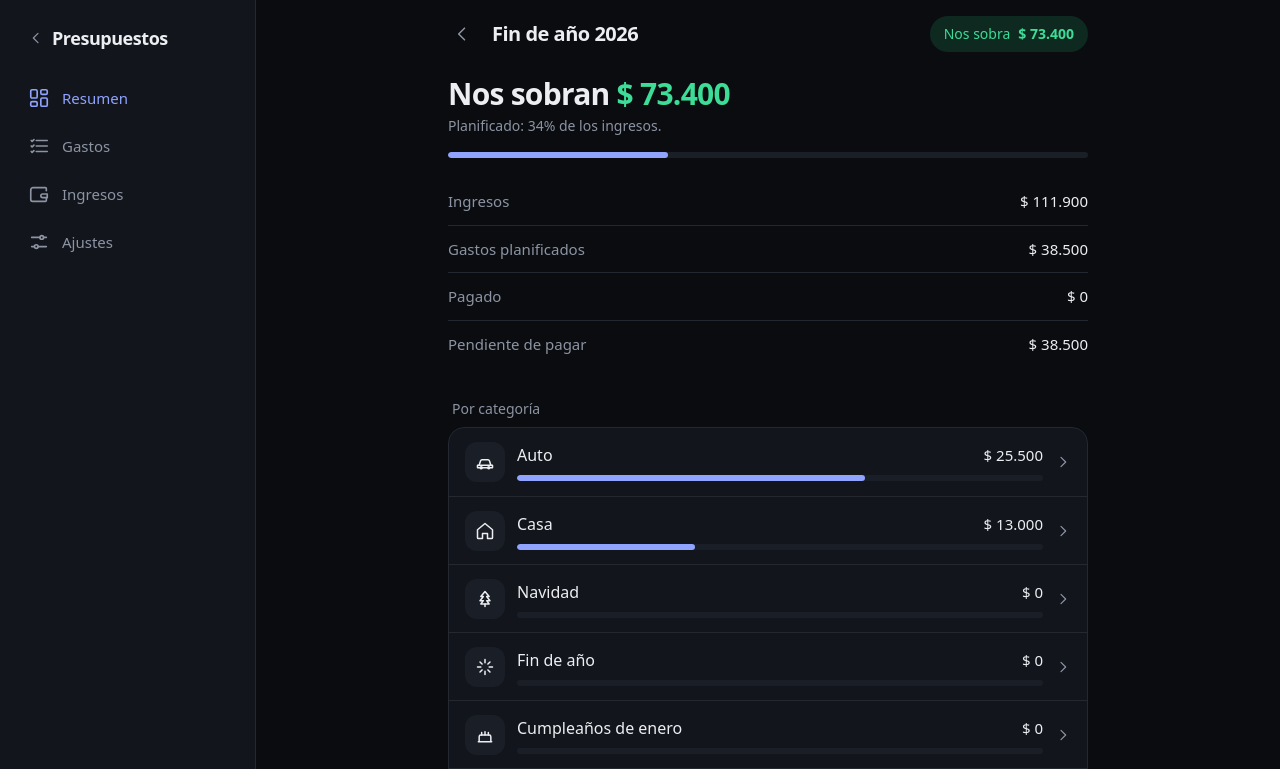
Test: navegación entre pantallas › las cuatro pestañas están en la barra, y se puede ir a cada una
Click the button "Gastos". click: [128, 146]
box: [16,124,239,168]
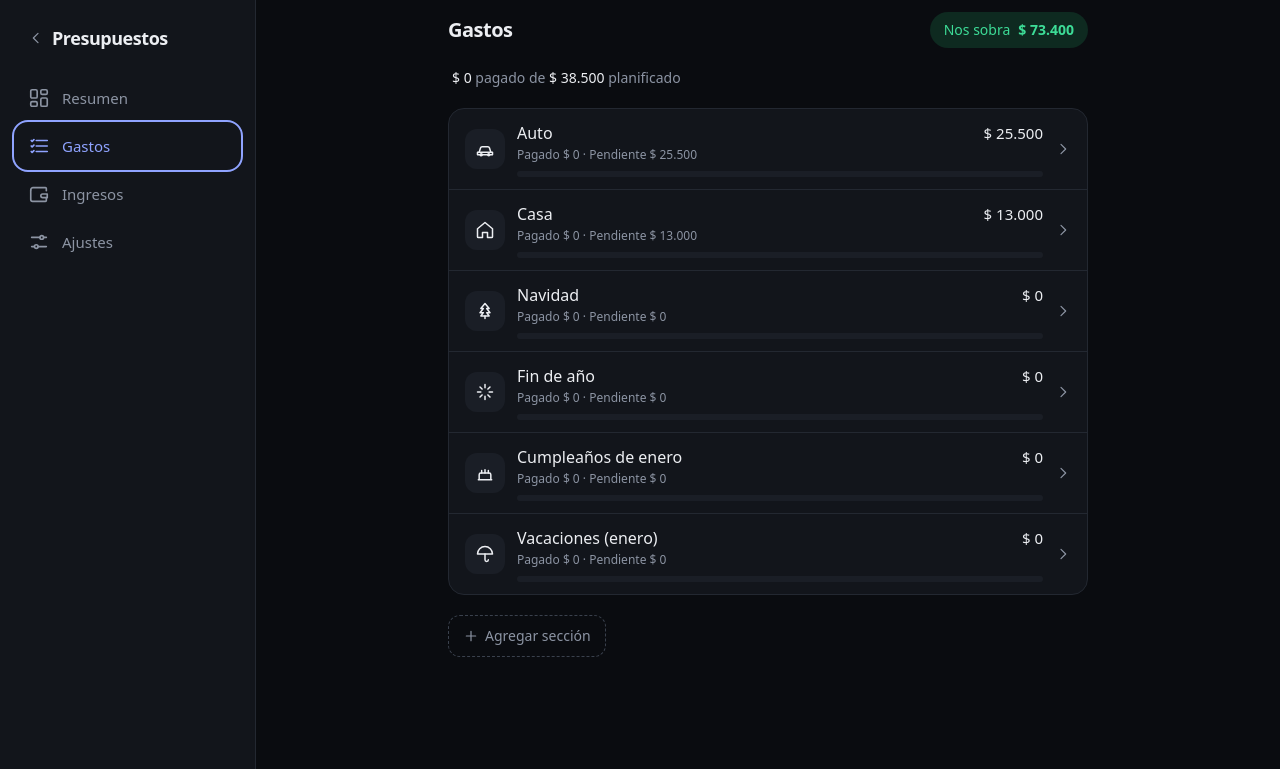
Expected: the text "Gastos" is shown, [62,135,110,157]
Click the button "Ingresos". click: [128, 194]
box: [16,172,239,216]
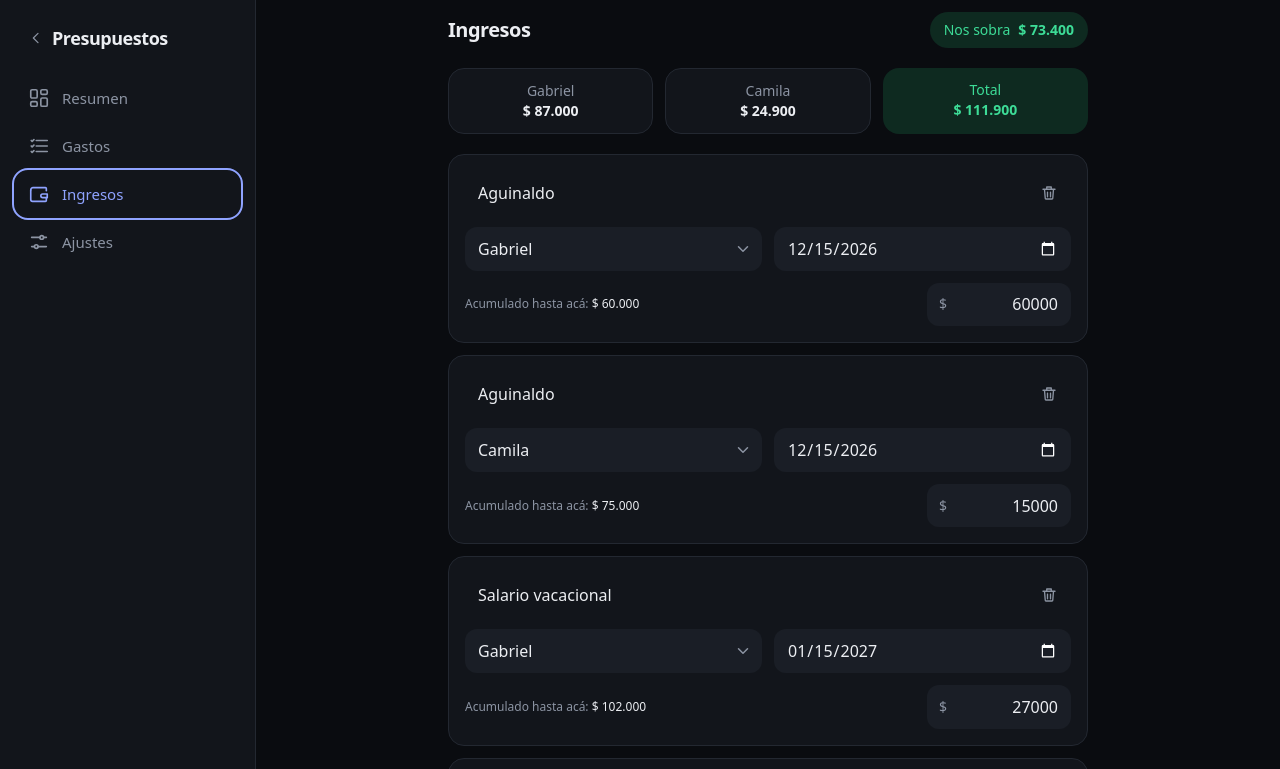
Expected: the text "Ingresos" is shown, [62,183,123,205]
Click the button "Ajustes". click: [128, 242]
box: [16,220,239,264]
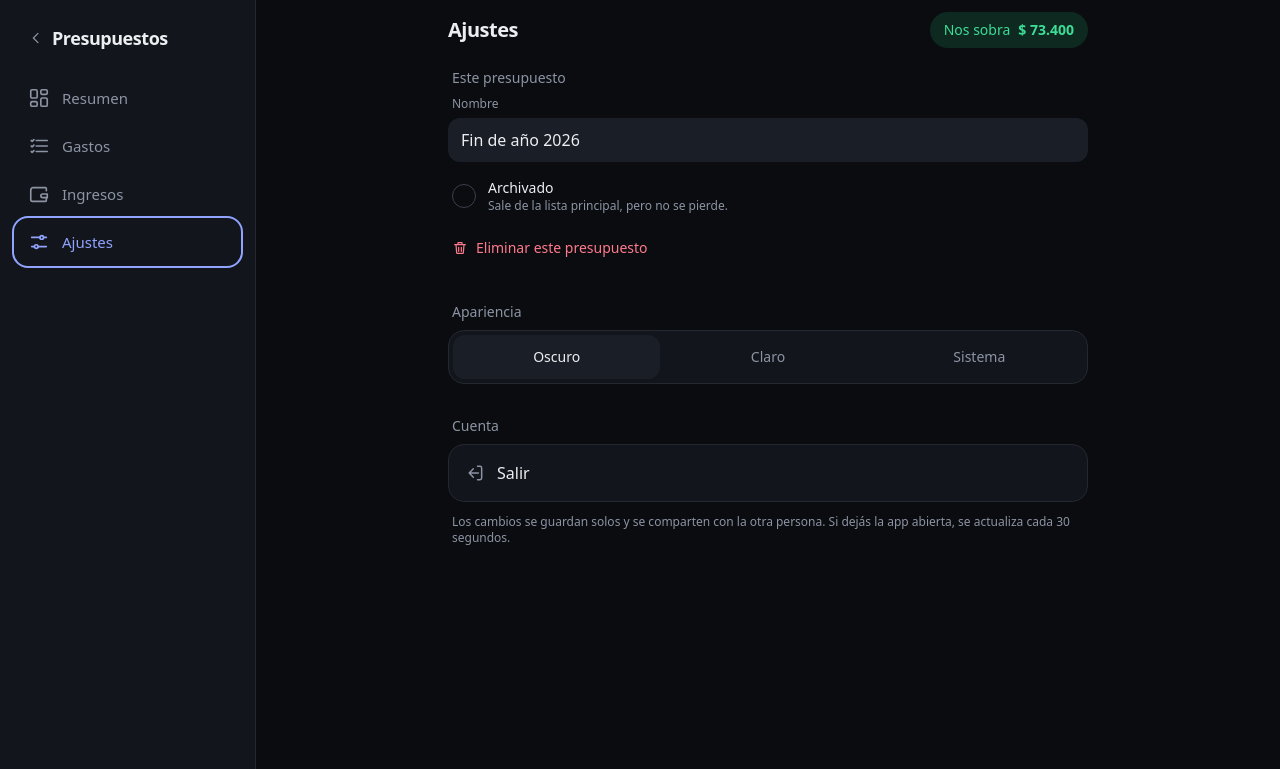
Expected: the text "Ajustes" is shown, [62,231,113,253]
Click the button "Resumen". click: [128, 98]
box: [16,76,239,120]
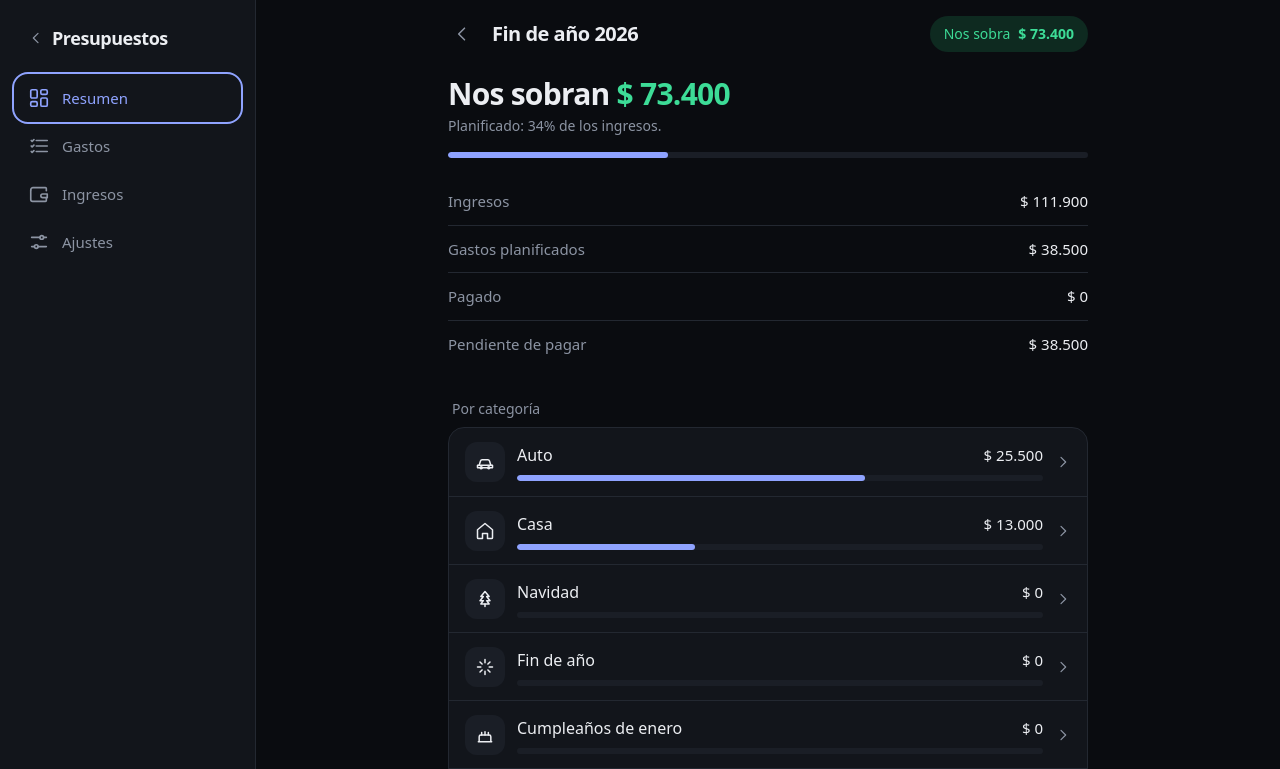
Expected: the heading "Fin de año 2026" is shown, [492,20,638,47]
